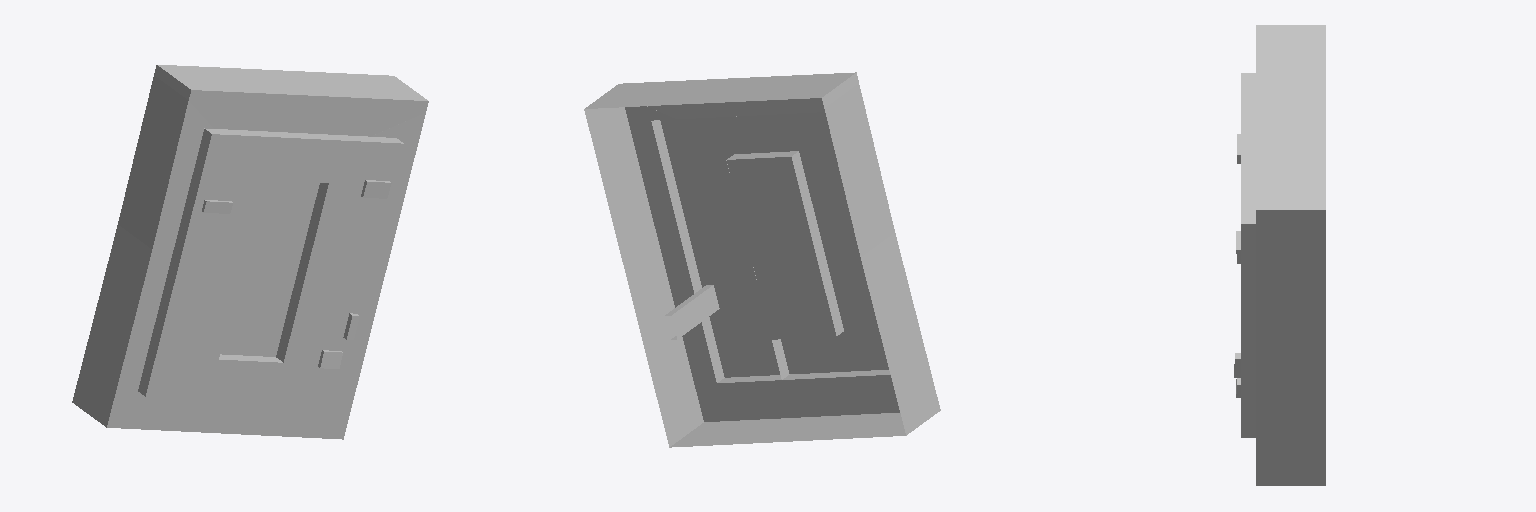
The model's file is talo_Build0000004.obj.
3 renders of one model, left to right at view 1: azimuth 30°, elevation 25°; view 2: azimuth 150°, elevation 25°; view 3: azimuth 270°, elevation 25°, orthographic.
Bounding box in the file's own units: 65.01 × 74.61 × 15.95.